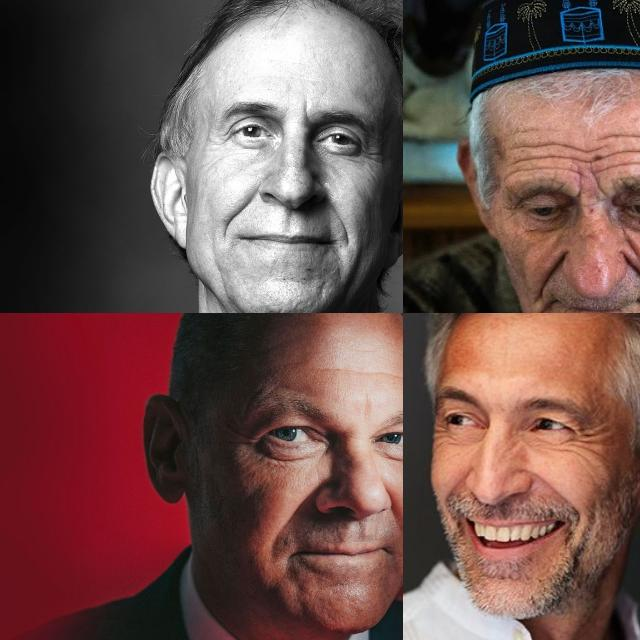crows_feet: (570, 423, 604, 459), (428, 420, 450, 454), (232, 427, 256, 457), (358, 140, 380, 170), (218, 125, 232, 146)
forehead: (316, 363, 399, 382), (514, 138, 554, 162), (560, 139, 590, 167), (508, 162, 556, 178), (596, 149, 624, 173), (600, 125, 628, 145), (628, 145, 640, 171)
frown_line: (588, 172, 610, 200), (572, 172, 588, 202), (300, 96, 314, 120)
gummy_smile: (284, 484, 318, 524), (223, 190, 254, 232), (525, 468, 565, 500), (326, 200, 354, 238), (442, 468, 472, 498), (539, 255, 563, 288), (384, 490, 403, 529), (625, 255, 640, 286)
masseter: (212, 265, 228, 295)
